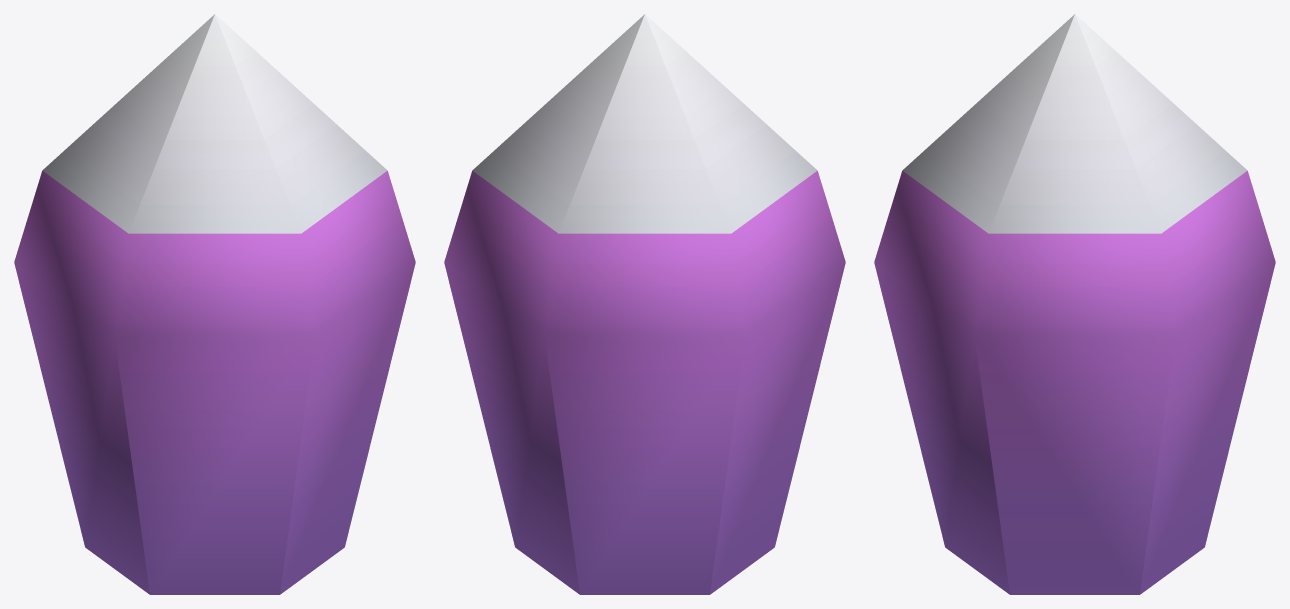
The model's file is kenney-tower-defense-snow-detail-crystal.glb.
3 renders of one model, left to right at view 1: azimuth 30°, elevation 25°; view 2: azimuth 150°, elevation 25°; view 3: azimuth 270°, elevation 25°, orthographic.
Visible parts, largest first — view 1: snow-detail-crystal; view 2: snow-detail-crystal; view 3: snow-detail-crystal.
Boxes of the visible parts, box(x1,y1,x2,y2) form: snow-detail-crystal: box(14, 14, 415, 594); snow-detail-crystal: box(444, 14, 845, 594); snow-detail-crystal: box(874, 14, 1275, 594).
Bounding box in the file's own units: 0.2512 × 0.425 × 0.29.
1 material, 1 textured.
